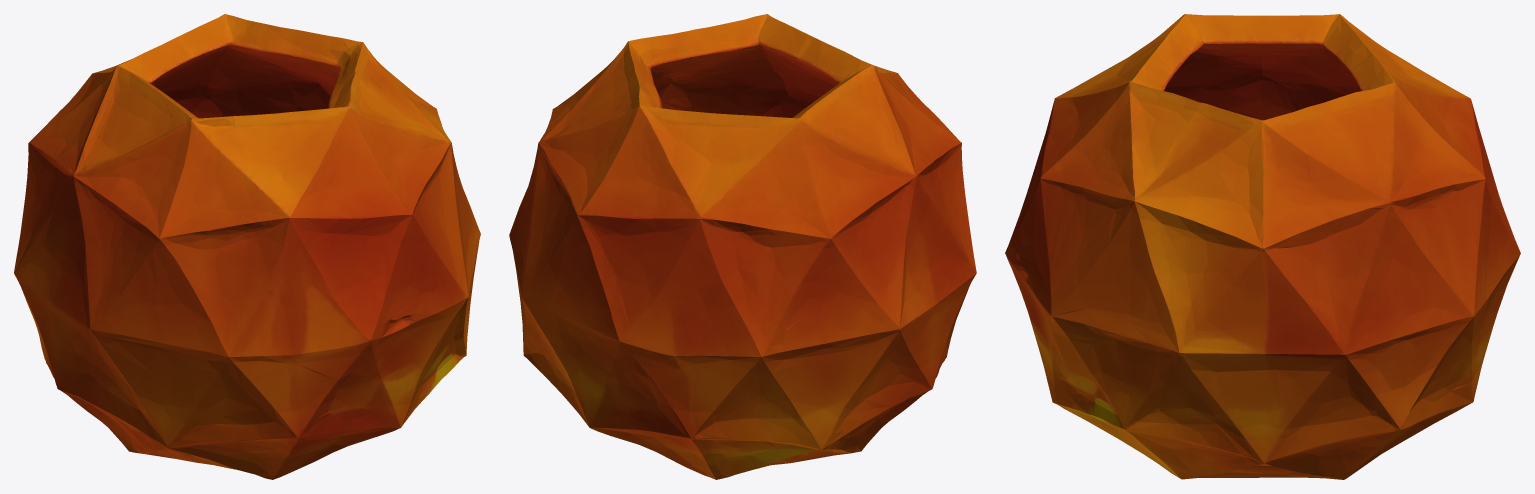
The model's file is amber_bead.glb.
3 views of the same model, side by side, from view 1: azimuth 30°, elevation 25°; view 2: azimuth 150°, elevation 25°; view 3: azimuth 270°, elevation 25° (orthographic). The views are drawn at different scales.
Parts seen in each view (by area): view 1: world; view 2: world; view 3: world.
Part boxes in pixels (box(x1,y1,x2,y2)): world: box(14, 14, 480, 479); world: box(509, 14, 976, 479); world: box(1005, 14, 1520, 479).
Bounding box in the file's own units: 0.9135 × 0.8516 × 0.9963.
1 material, 1 textured.
